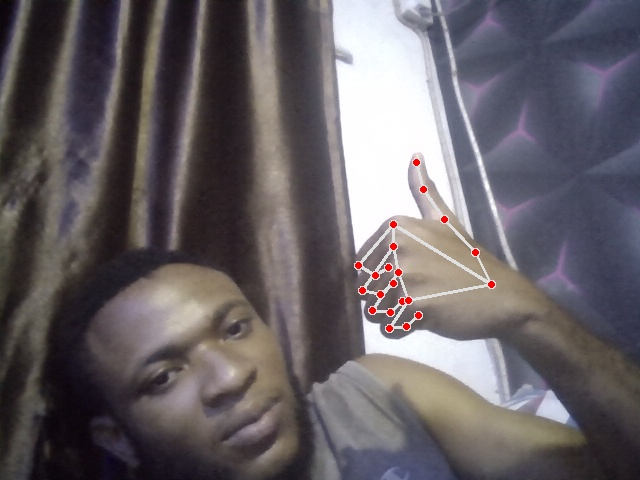thumbsup: (350, 151, 498, 341)
